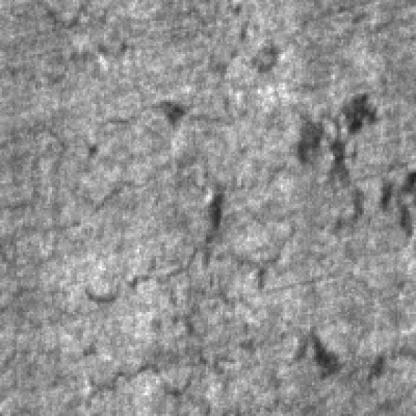crazing: (73, 92, 318, 237), (83, 252, 285, 412)
